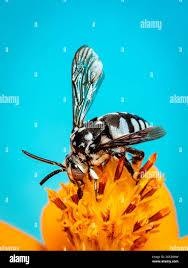Thyreus: (4, 31, 161, 193)
